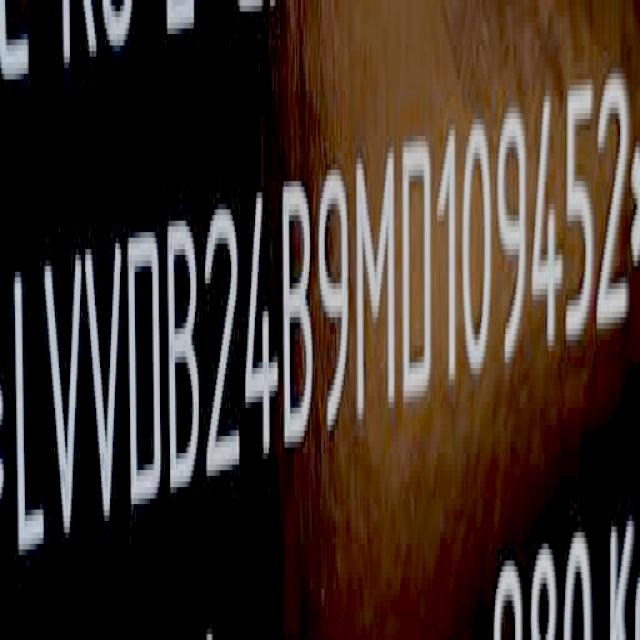0: (463, 115, 494, 388)
1: (438, 122, 459, 398)
2: (207, 208, 243, 491), (600, 66, 631, 335)
4: (246, 190, 280, 471), (531, 95, 563, 359)
5: (567, 72, 595, 346)
9: (317, 170, 350, 443), (499, 104, 529, 370)
B: (168, 219, 204, 500), (284, 178, 316, 454)
D: (126, 230, 162, 518), (401, 131, 435, 411)
L: (13, 263, 45, 567)
M: (357, 146, 399, 428)
V: (85, 238, 126, 537), (41, 252, 81, 556)
